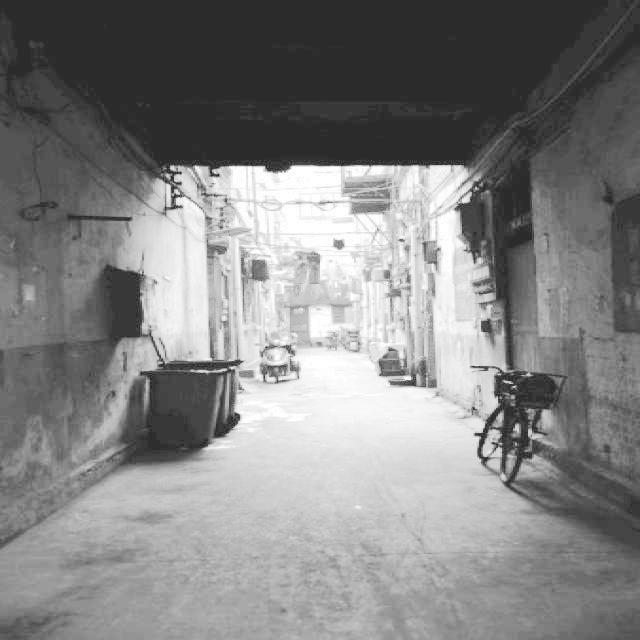Bicycle: (468, 358, 566, 488)
